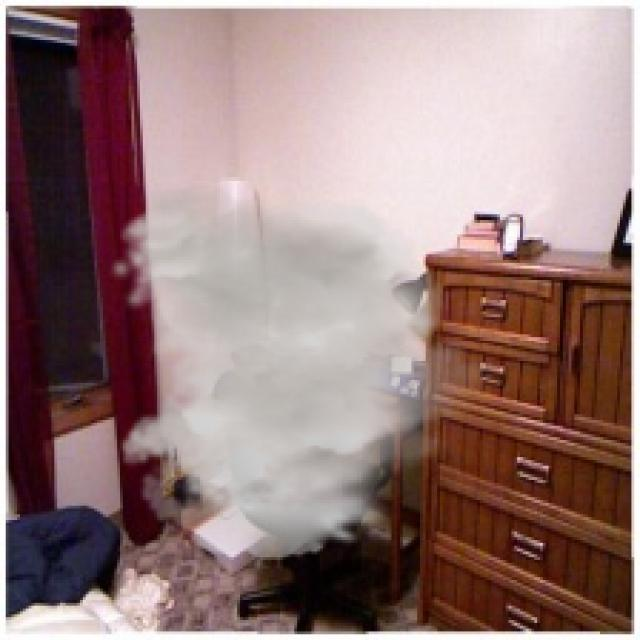smoke: (106, 183, 494, 560)
